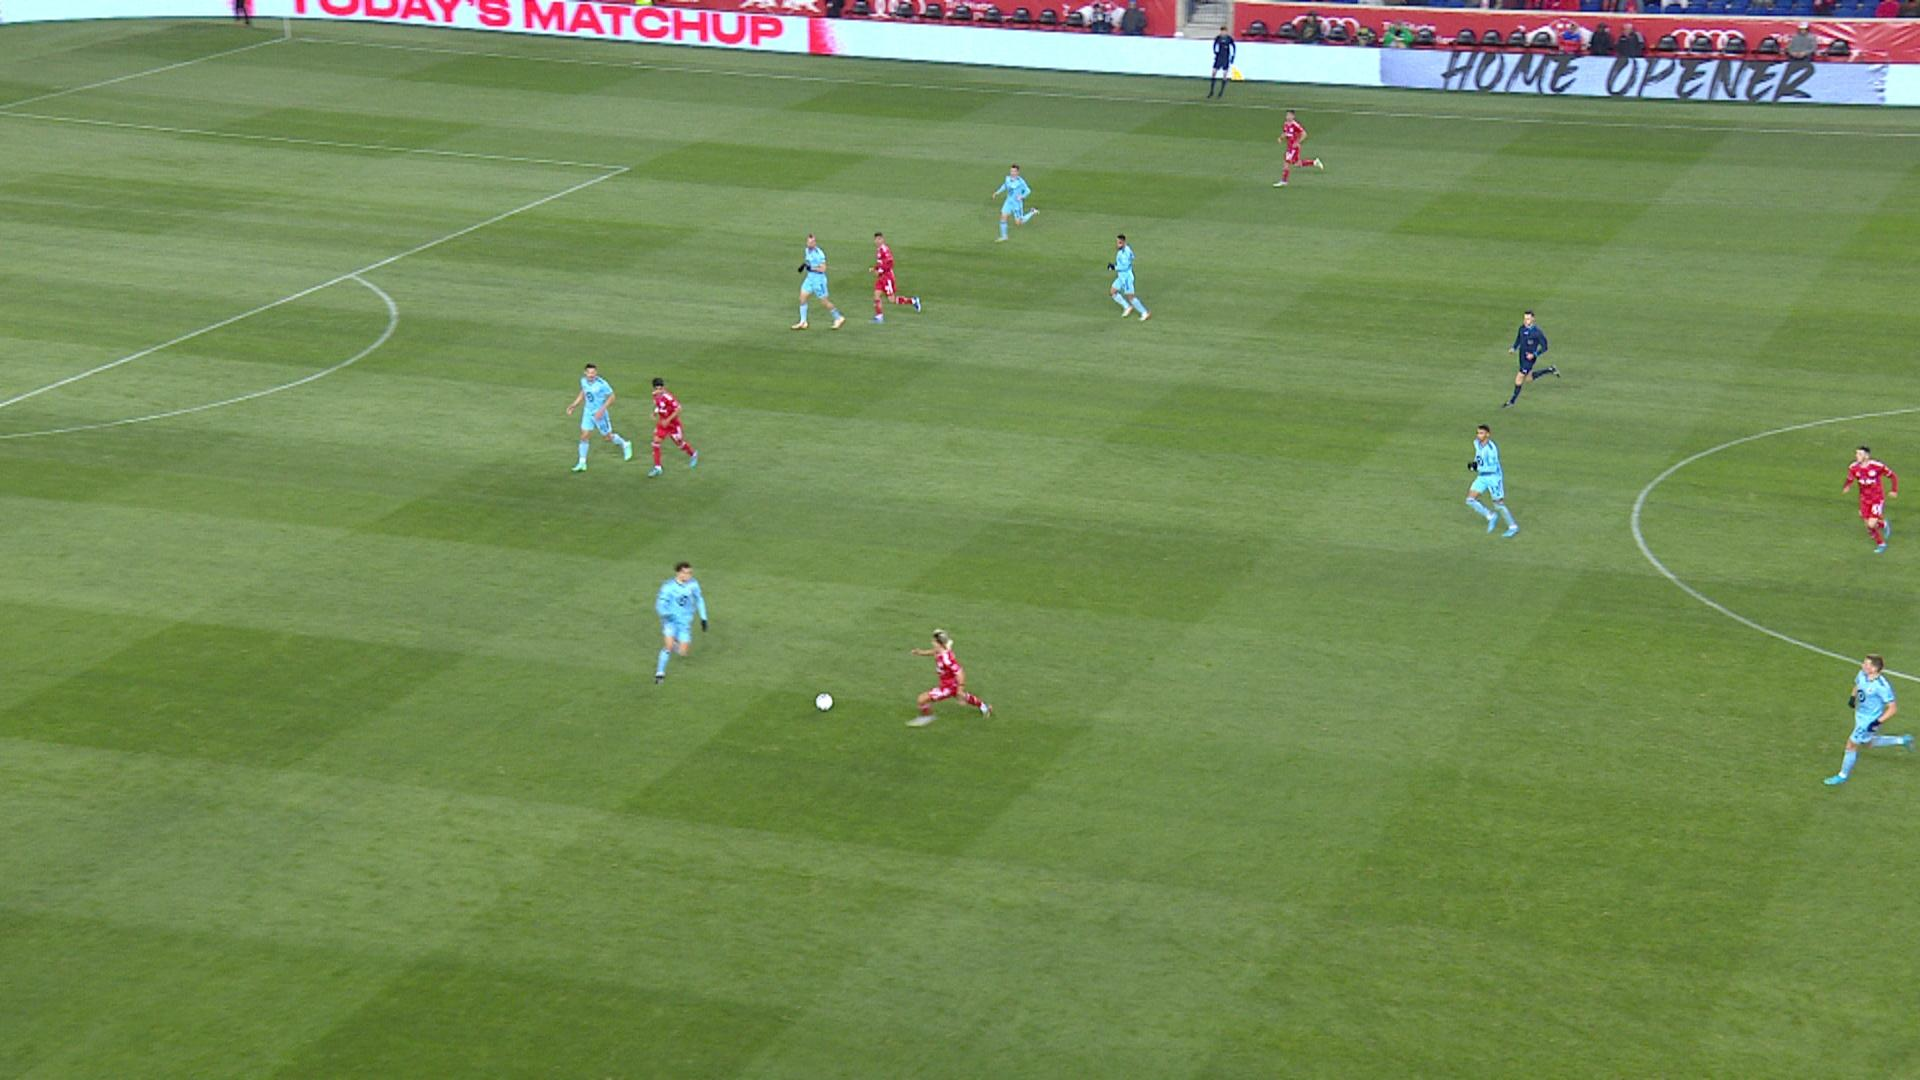football: (815, 691, 833, 711)
